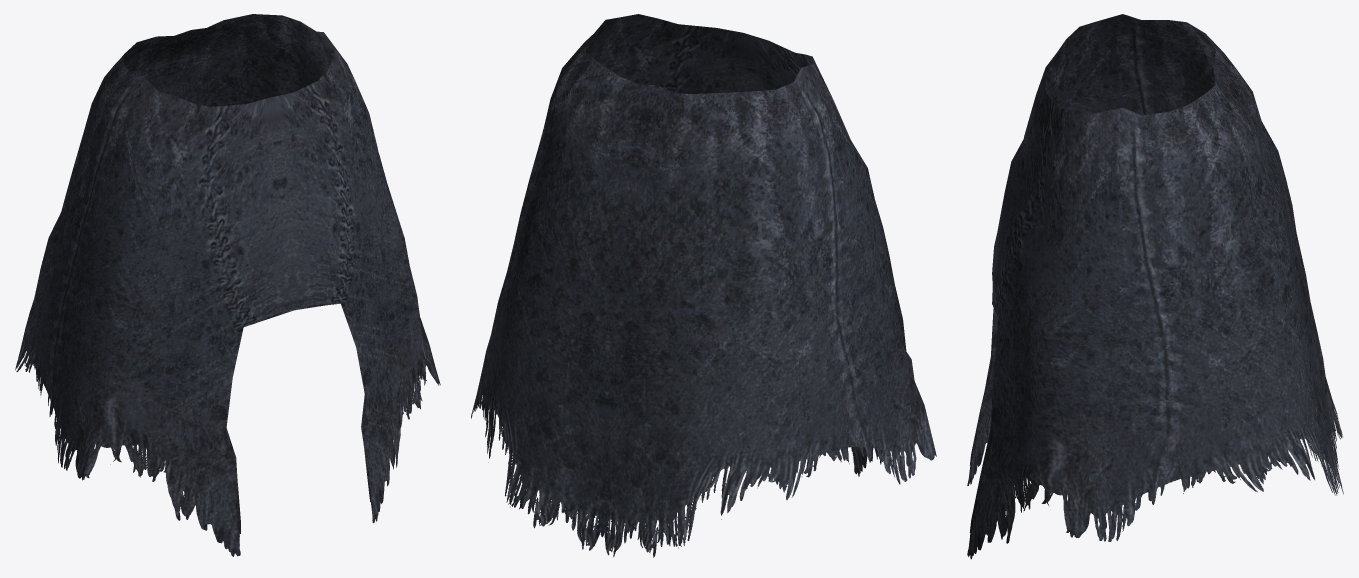
Rendered from LowerOverlay_01.fbx.
The picture shows the model from 3 angles, left to right: view 1: azimuth 30°, elevation 25°; view 2: azimuth 150°, elevation 25°; view 3: azimuth 270°, elevation 25°; orthographic projection. The views are drawn at different scales.
Visible parts, largest first — view 1: F_Human_01_Lower_Overlay; view 2: F_Human_01_Lower_Overlay; view 3: F_Human_01_Lower_Overlay.
Boxes of the visible parts, x1,y1,x2,y2 form: F_Human_01_Lower_Overlay: [15, 14, 440, 556]; F_Human_01_Lower_Overlay: [471, 14, 936, 557]; F_Human_01_Lower_Overlay: [967, 14, 1343, 559].
Size of the model in its own units: 67.7 by 77.31 by 56.57.
1 material, 1 textured.
